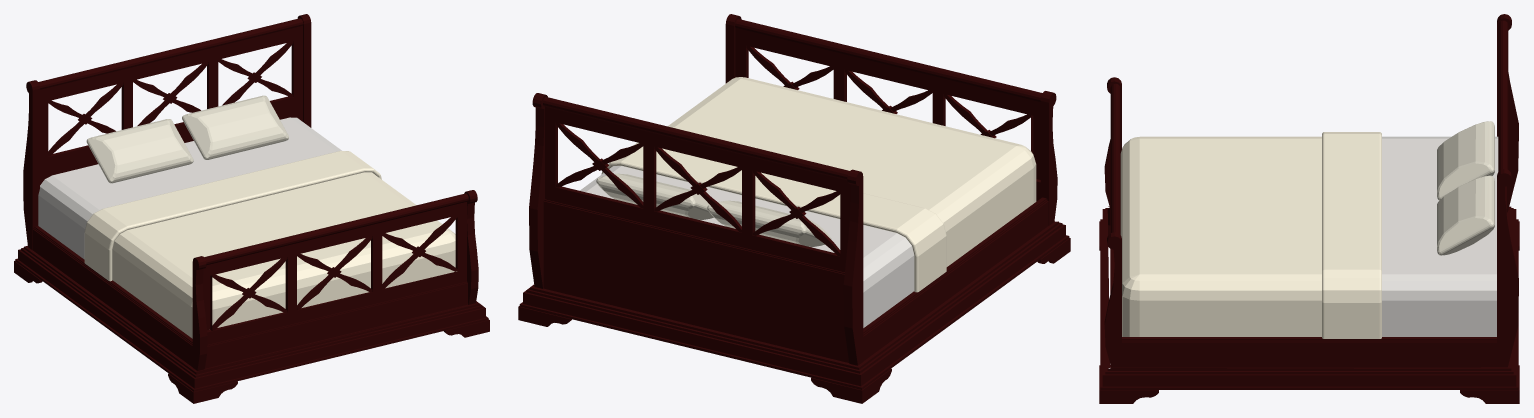
Rendered from bed.glb.
The picture shows the model from 3 angles, left to right: view 1: azimuth 30°, elevation 25°; view 2: azimuth 150°, elevation 25°; view 3: azimuth 270°, elevation 25°; orthographic projection. The views are drawn at different scales.
Visible parts, largest first — view 1: Node; view 2: Node; view 3: Node.
Boxes of the visible parts, bbox=[...] form: Node: bbox=[14, 14, 489, 403]; Node: bbox=[518, 14, 1070, 403]; Node: bbox=[1099, 14, 1519, 403].
Bounding box in the file's own units: 80.4 × 50 × 84.4.
